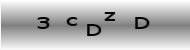3: (36, 17, 50, 29)
D: (85, 22, 102, 36), (132, 16, 150, 29)
c: (66, 16, 78, 26)
z: (103, 10, 116, 22)
